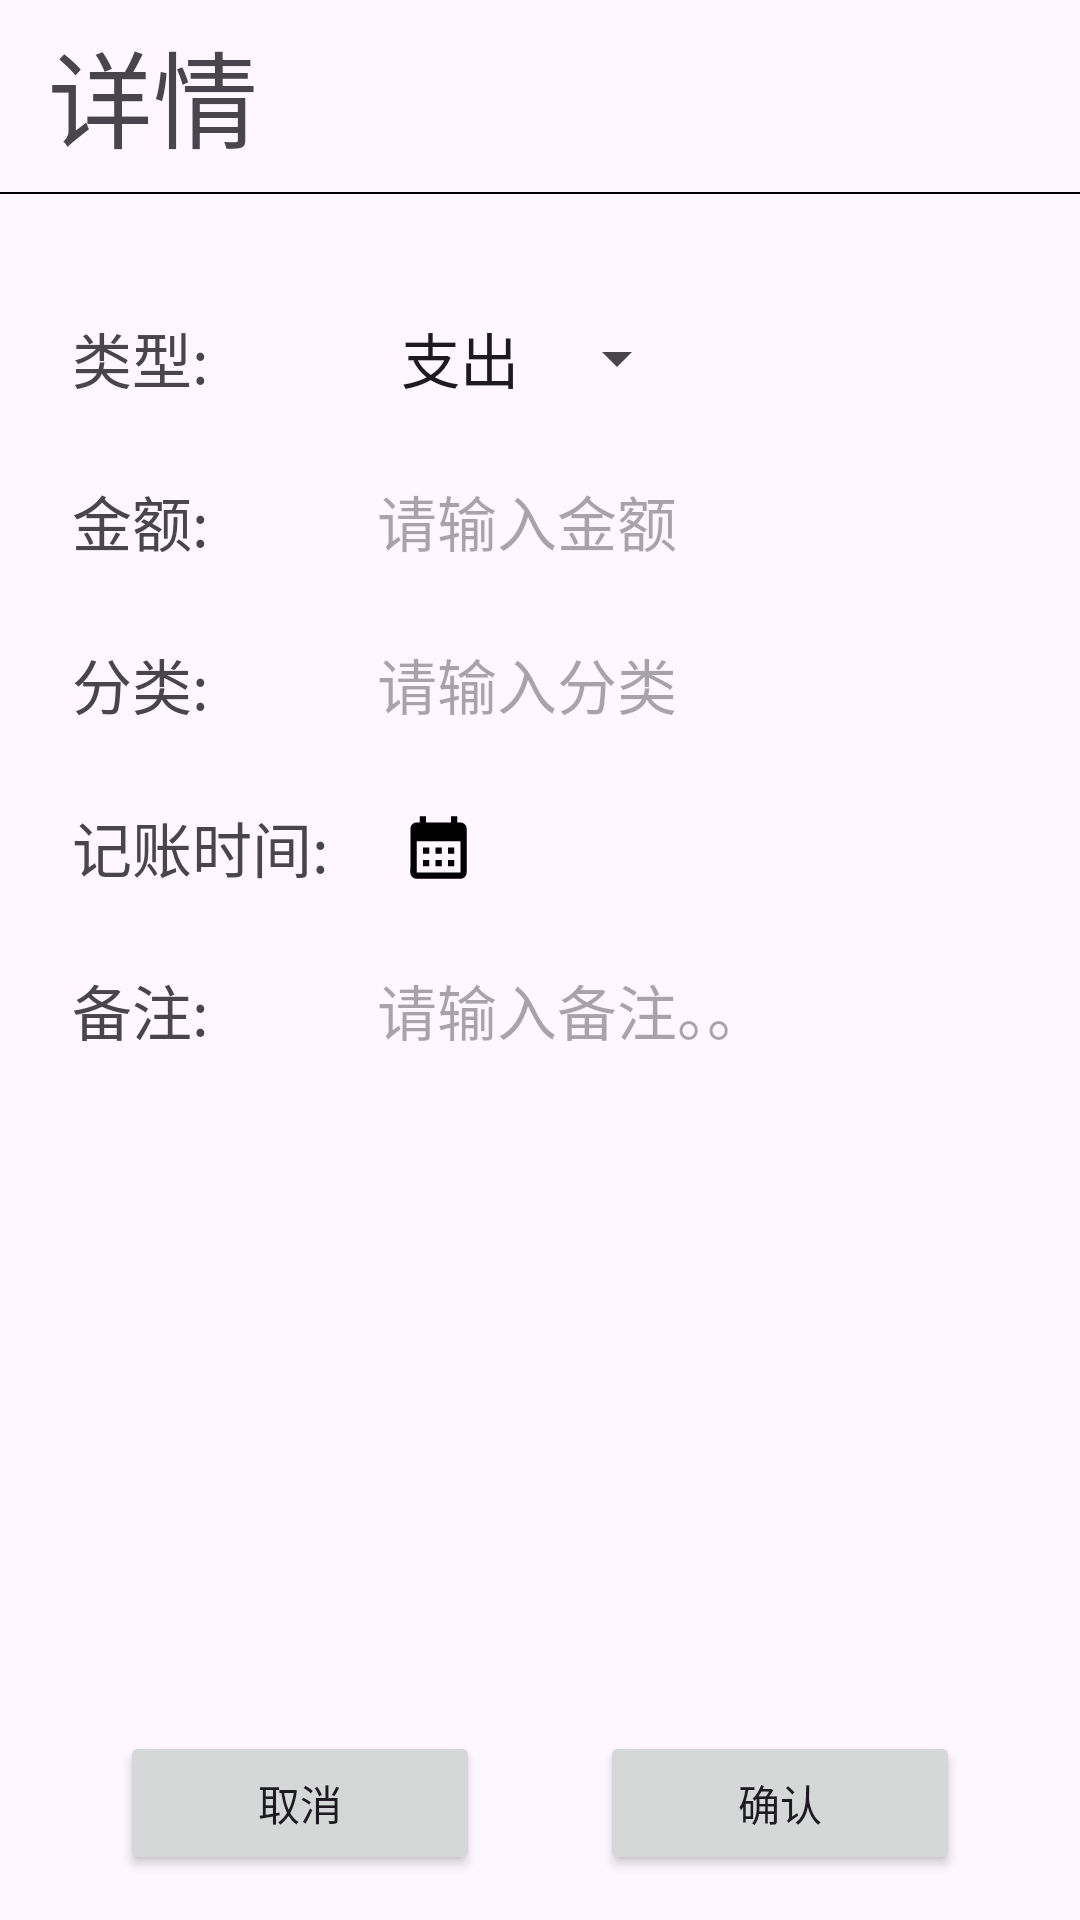

Point at icon controls on the screen. Image size 1080px x 1920px, points as [x,y].
calendar: [438,847]
